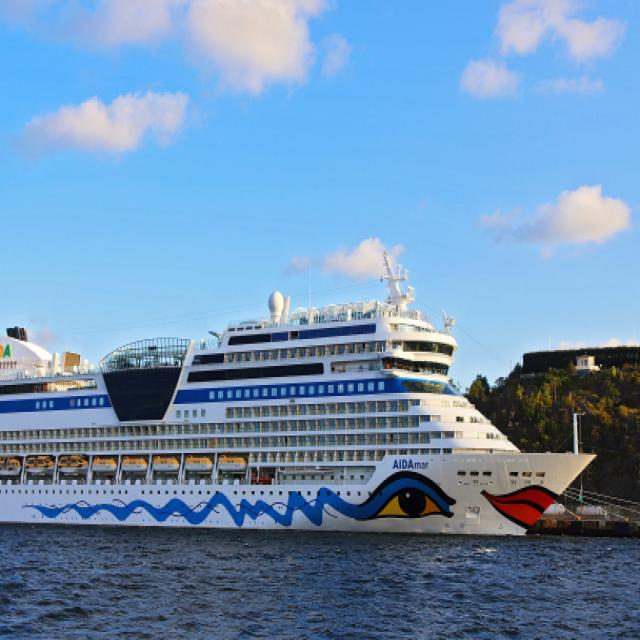cruises: (1, 250, 603, 548)
